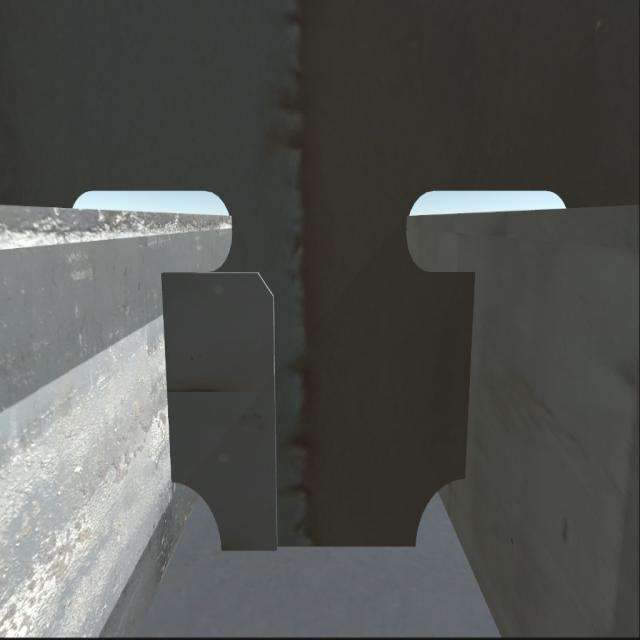fillet_hole: (170, 477, 220, 552), (412, 481, 464, 551)
fillet_yong_jeop_jang: (214, 532, 420, 558)
longi_yong_jeop_jang: (452, 263, 483, 492), (158, 263, 184, 487)
plate_CP03: (169, 266, 276, 556)
